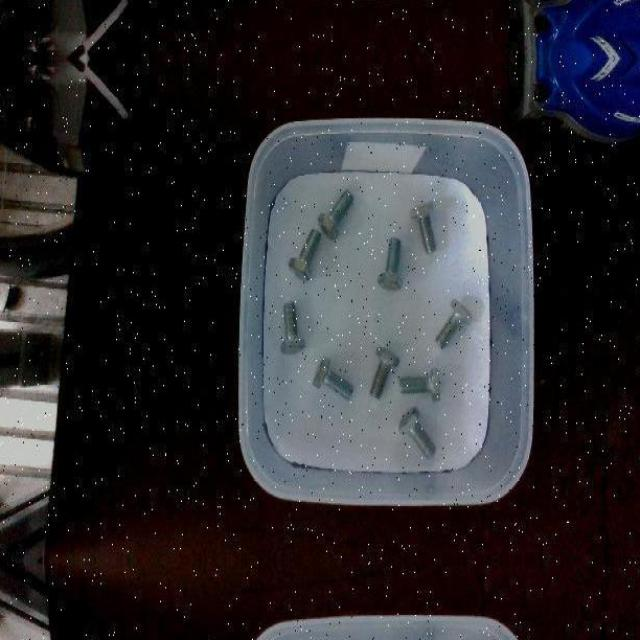screw: (398, 406, 437, 458), (435, 298, 473, 350), (317, 189, 354, 241), (312, 357, 354, 400), (289, 228, 321, 280), (369, 344, 400, 397), (409, 199, 436, 253), (280, 299, 306, 354), (401, 367, 442, 401), (378, 236, 402, 291)
